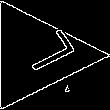L_SW: (2, 29, 71, 81)
